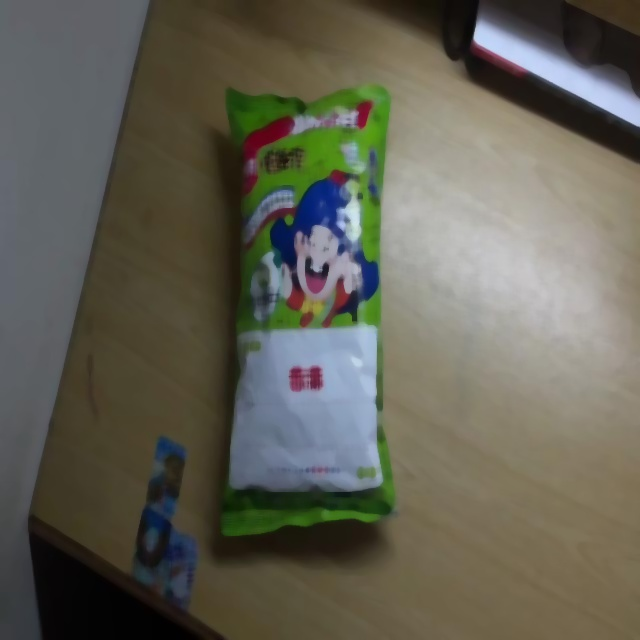Good-Luck: (219, 81, 402, 536)
